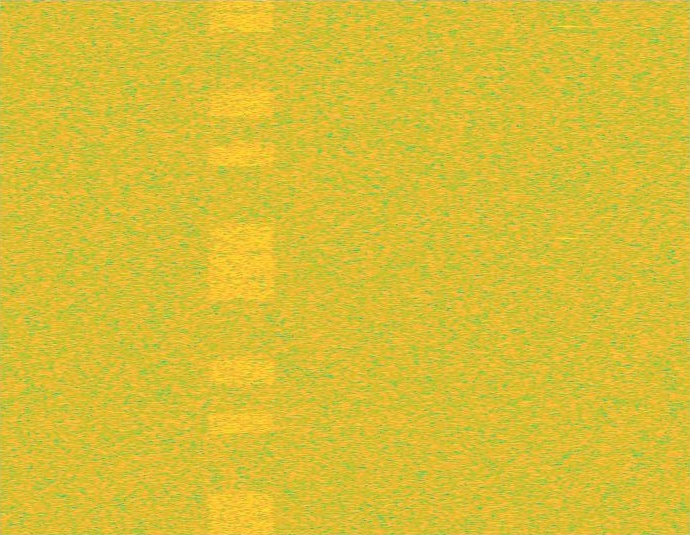LTE: (207, 0, 276, 534)
Radar: (561, 0, 574, 534)
